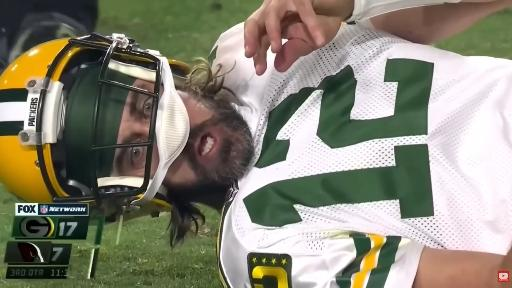Helmet: (0, 34, 190, 219)
Jersey: (211, 25, 511, 287)
Player: (17, 26, 510, 286), (212, 25, 511, 287)
